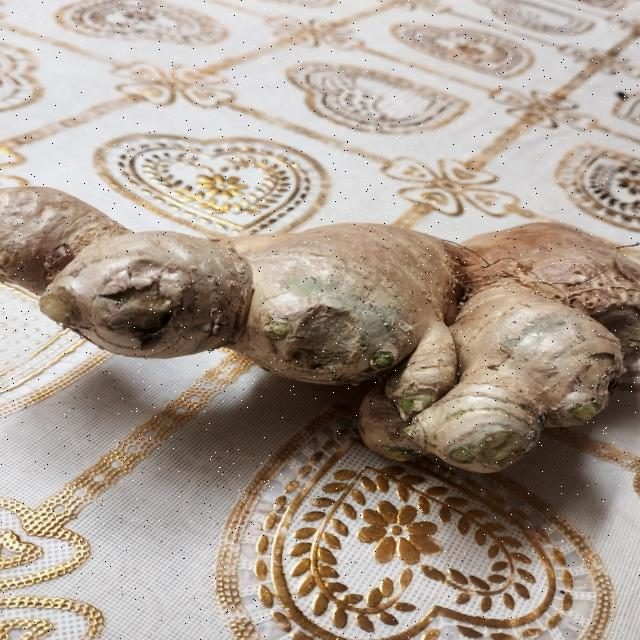ginger: (6, 160, 637, 460)
